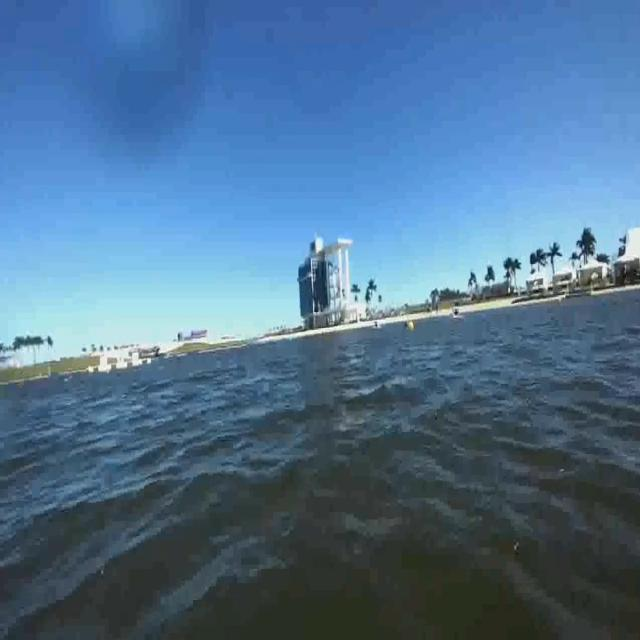yellow-buoy: (409, 320, 416, 332)
